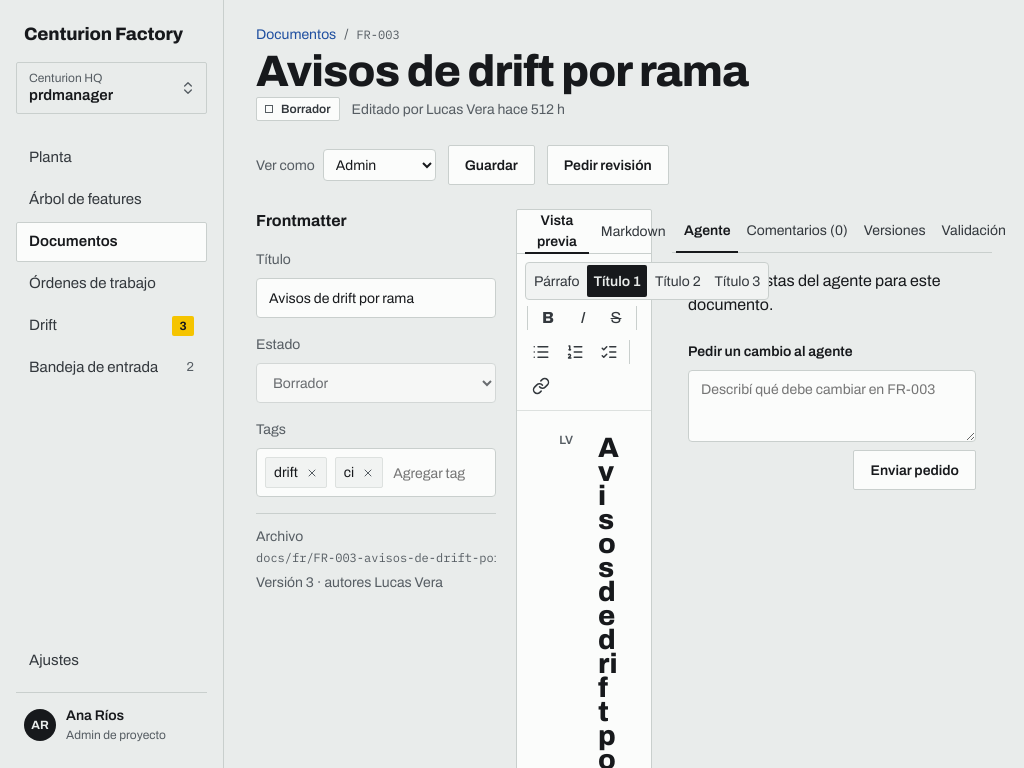
Test: WorkflowActions by role, on a draft document (FR-003) › lets the default Admin role ask for review
Expected: the text "Versión 3 · autores Lucas Vera" is shown, [256,575,443,590]
Click the button "Pedir revisión".
click(608, 165)  # box [547,145,669,185]
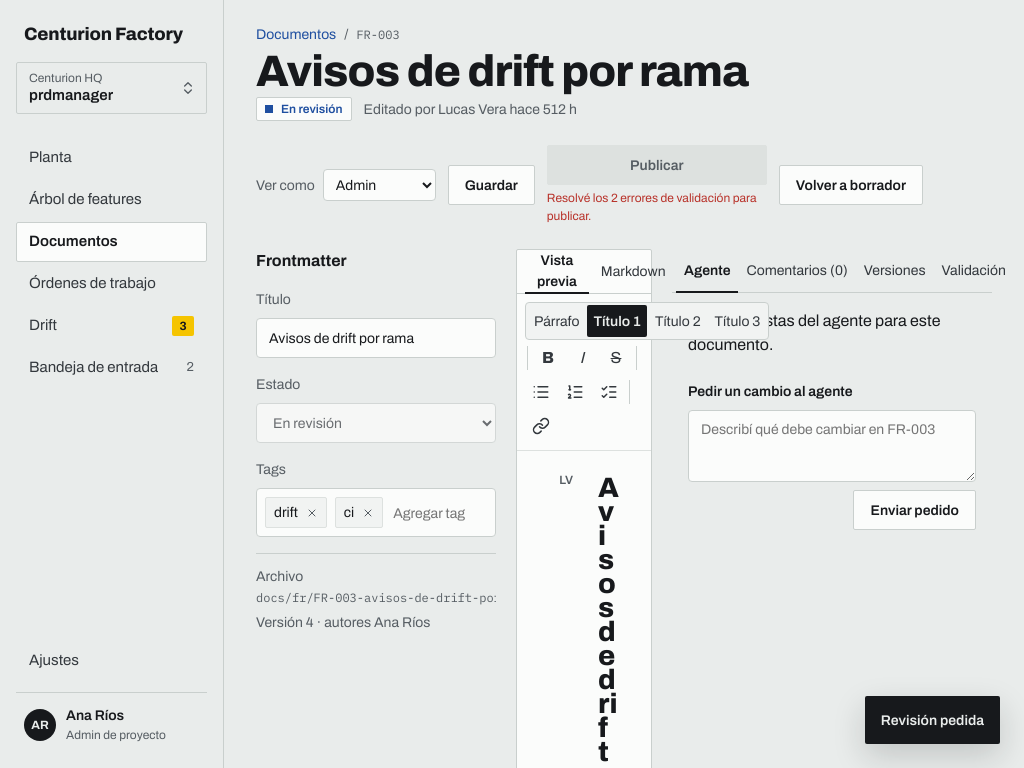
Now the text "Revisión pedida" is shown, box [865,696,1000,744]
